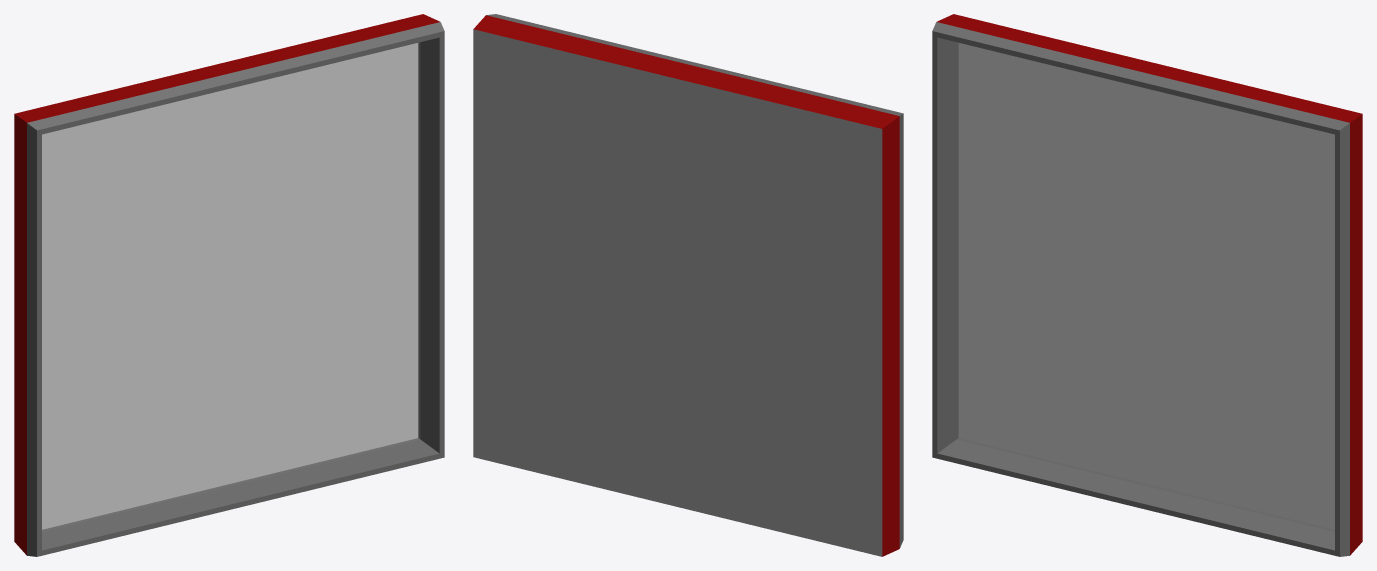
The model's file is window_grey.fbx.
3 renders of one model, left to right at view 1: azimuth 30°, elevation 25°; view 2: azimuth 150°, elevation 25°; view 3: azimuth 330°, elevation 25°, orthographic.
Visible parts, largest first — view 1: window_grey, pane; view 2: window_grey; view 3: window_grey, pane.
Boxes of the visible parts, x1=… form: window_grey: x1=14, y1=14, x2=444, y2=556; pane: x1=42, y1=43, x2=419, y2=531; window_grey: x1=473, y1=14, x2=903, y2=556; window_grey: x1=932, y1=14, x2=1362, y2=556; pane: x1=957, y1=43, x2=1334, y2=531.
Bounding box in the file's own units: 245 × 245 × 22.59.
